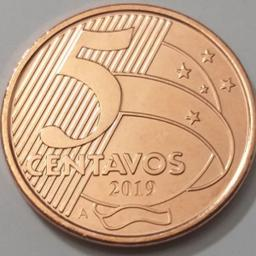5 cent: (0, 2, 255, 248)
